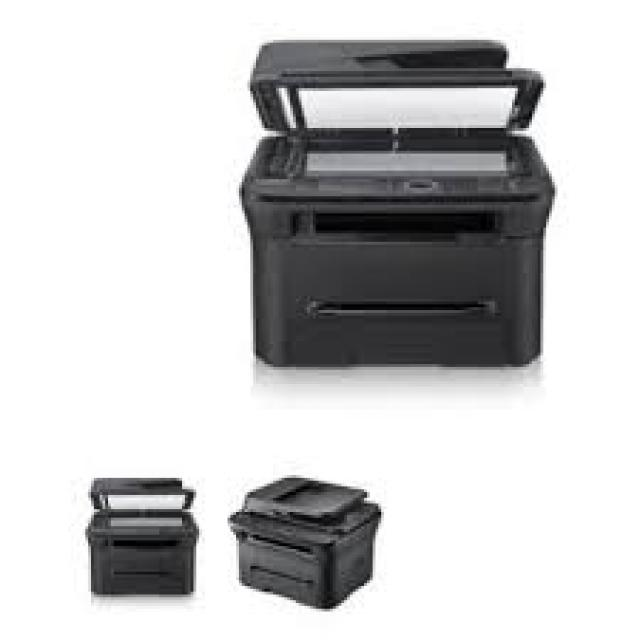printer: (240, 34, 560, 370), (227, 472, 386, 612), (86, 472, 197, 598)
